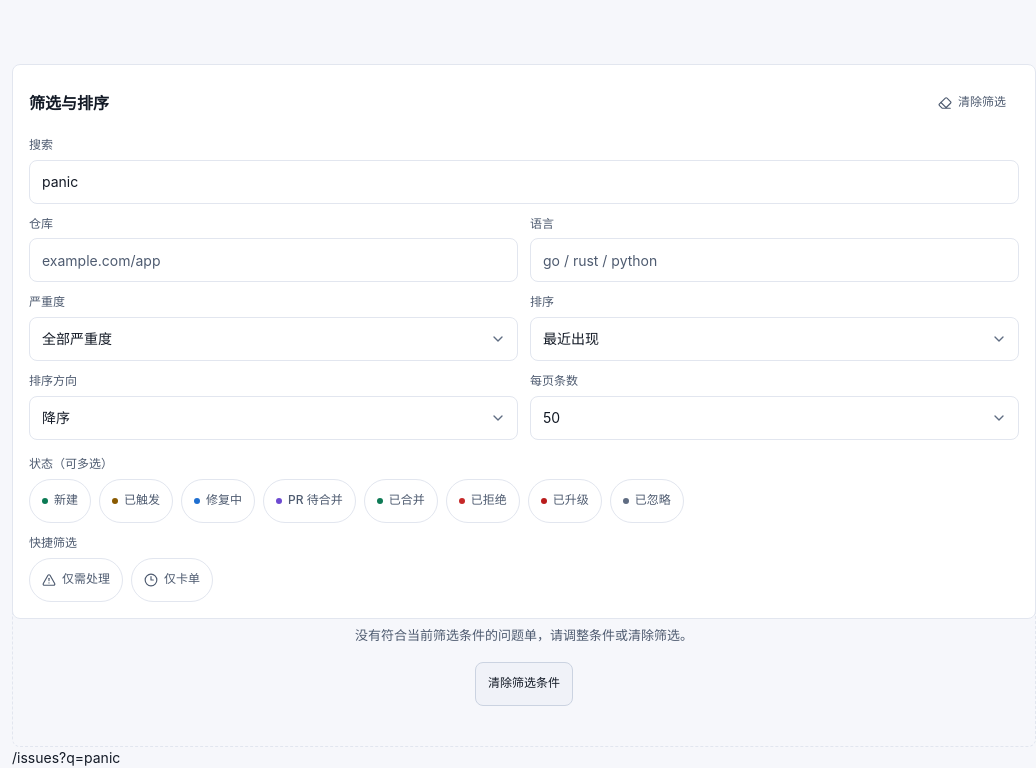
Scenario: IssuesPage › distinguishes filtered emptiness and clears the filters
(page scrolled)
Expected: the heading "筛选无结果" is shown, [484, 601, 564, 621]
What coordinates should you click on to do the following:
click the button "清除筛选条件"
I would click on:
 (524, 684)
Its box is [475, 662, 573, 706].
(page scrolled)
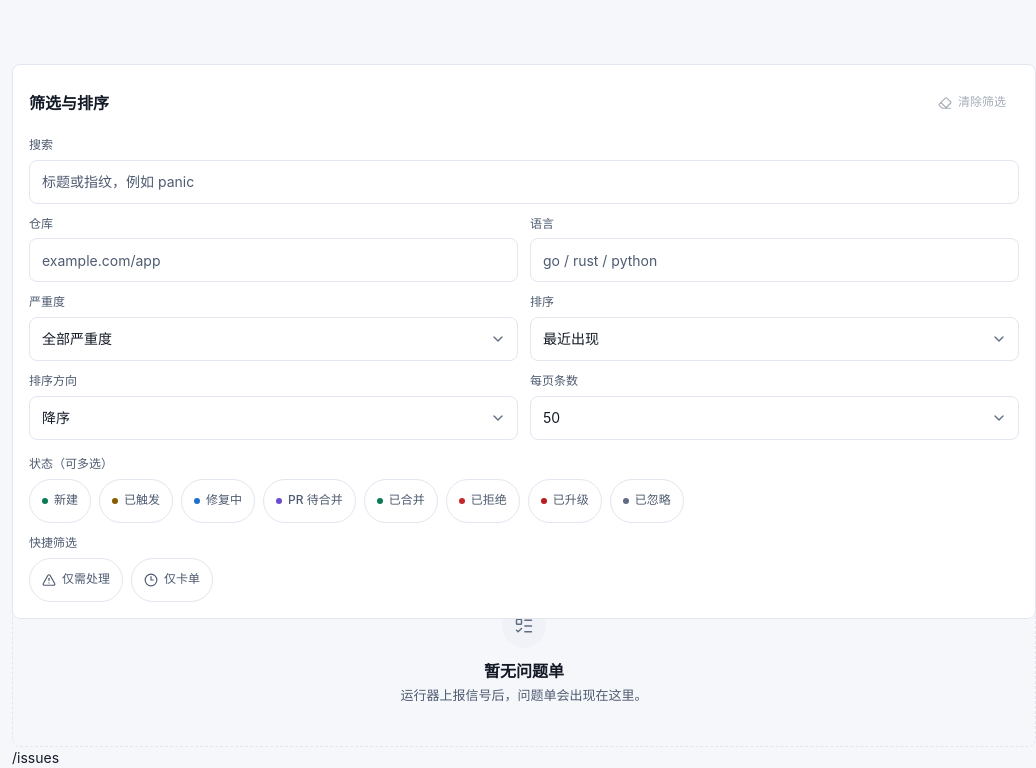
Expected: the text with test id "location" reads "/issues", [12, 749, 59, 766]
Expected: the heading "暂无问题单" is shown, [484, 661, 564, 681]
